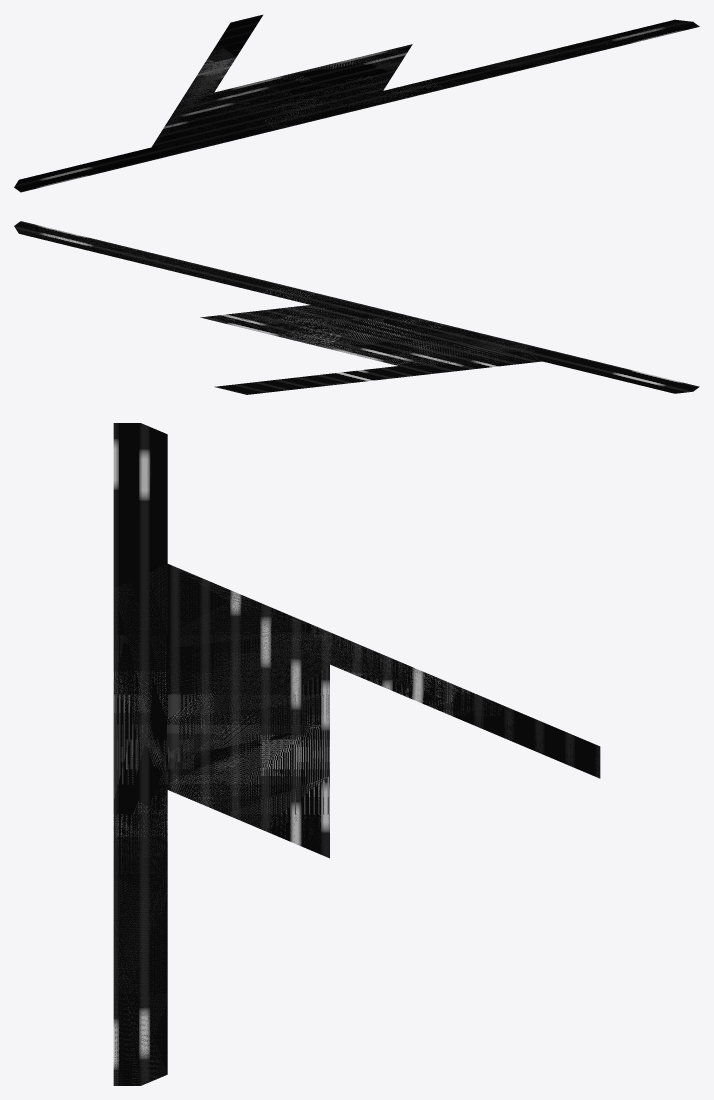
3 views of the same model, one above another, from view 1: azimuth 30°, elevation 25°; view 2: azimuth 150°, elevation 25°; view 3: azimuth 270°, elevation 25° (orthographic). The views are drawn at different scales.
Parts seen in each view (by area): view 1: Joint_0_Object_0, Joint_0_Object_1; view 2: Joint_0_Object_0, Joint_0_Object_1; view 3: Joint_0_Object_0, Joint_0_Object_1.
Part boxes in pixels (<box>): Joint_0_Object_0: <box>14,15,699,192</box>; Joint_0_Object_1: <box>153,15,697,150</box>; Joint_0_Object_0: <box>14,221,699,394</box>; Joint_0_Object_1: <box>15,223,539,394</box>; Joint_0_Object_0: <box>113,423,600,1085</box>; Joint_0_Object_1: <box>113,564,600,1085</box>.
Bounding box in the file's own units: 171 × 0 × 52.99.
Materials: 2 (2 with a texture image).
